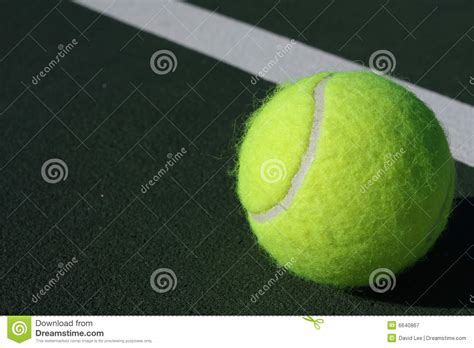tennis_ball: (235, 70, 456, 288)
